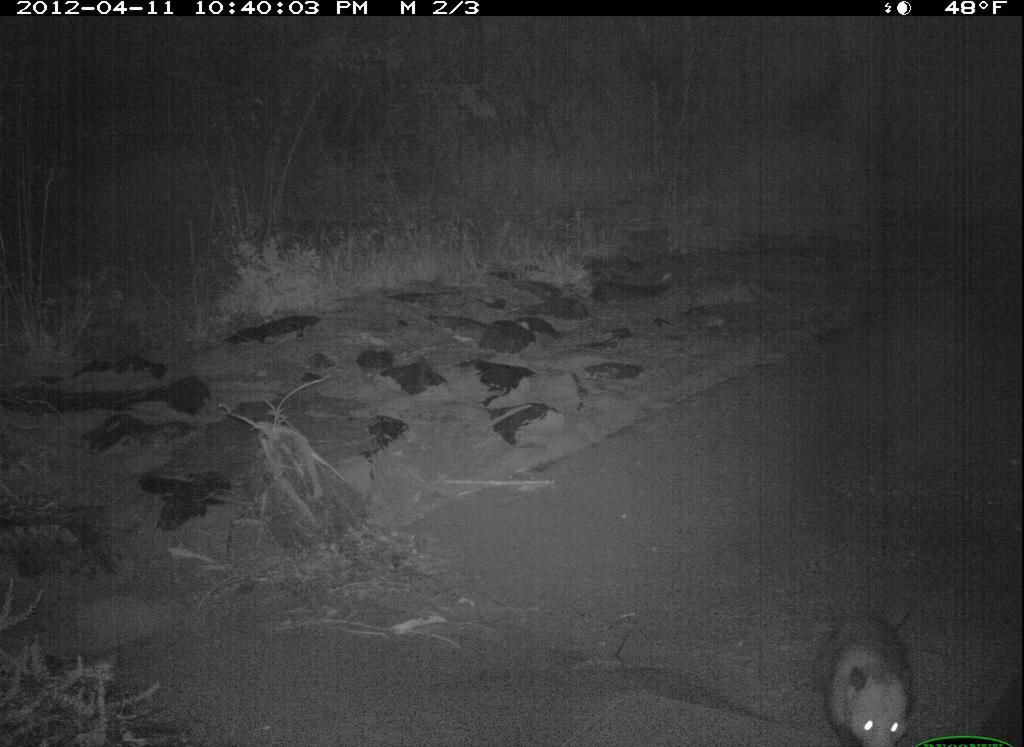opossum: (799, 598, 939, 747)
